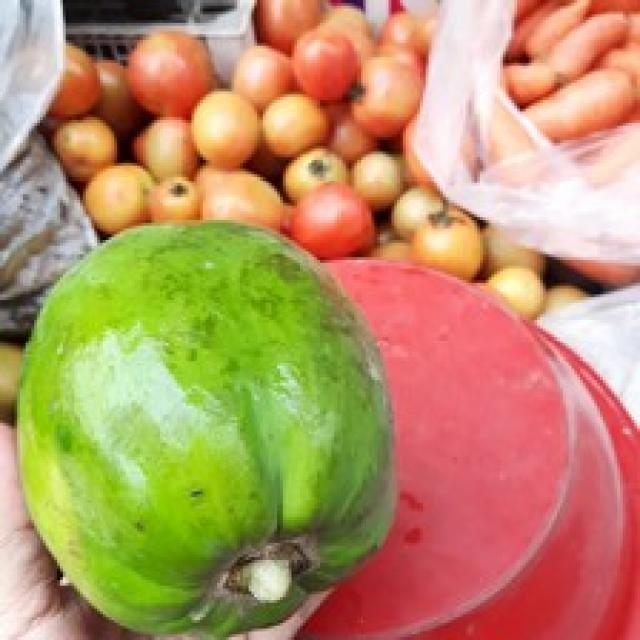Pepaya unrippen: (6, 193, 401, 640)
